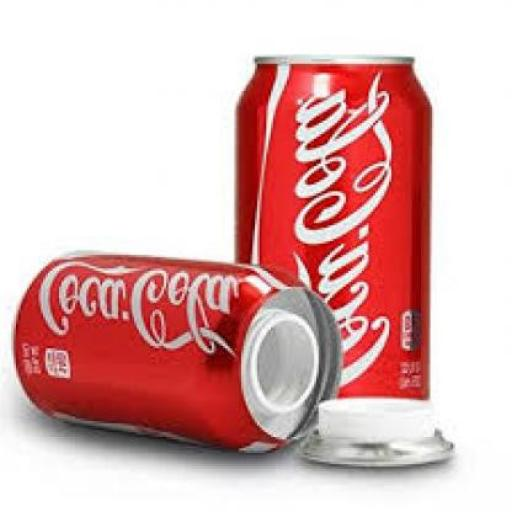metal: (236, 52, 434, 410), (16, 255, 346, 450), (303, 428, 455, 462)
